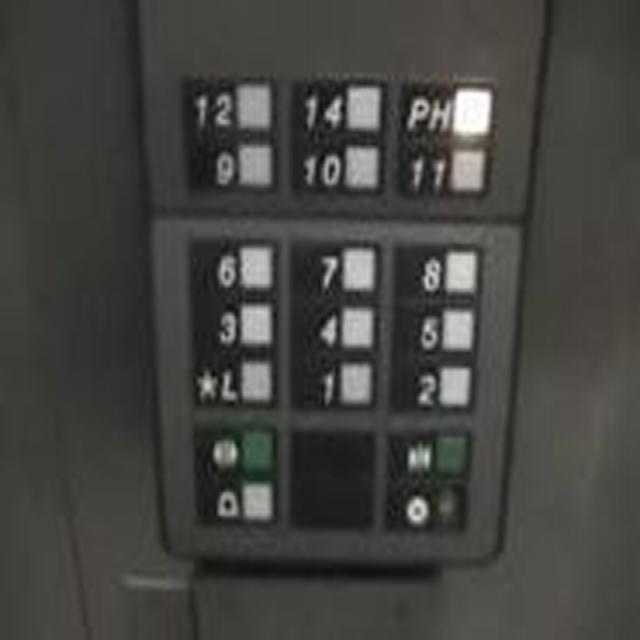1: (287, 352, 379, 415)
10: (287, 134, 386, 198)
11: (393, 136, 494, 201)
12: (179, 71, 281, 140)
14: (287, 70, 389, 142)
2: (386, 353, 479, 415)
3: (185, 293, 282, 355)
4: (286, 293, 383, 360)
5: (387, 295, 483, 360)
6: (182, 231, 280, 301)
7: (285, 234, 384, 302)
8: (390, 235, 487, 305)
9: (179, 132, 281, 196)
PH: (393, 71, 501, 145)
alarm: (191, 471, 282, 528)
close: (382, 421, 477, 484)
open: (186, 420, 280, 477)
sL: (184, 345, 281, 411)
stop: (381, 478, 471, 538)
